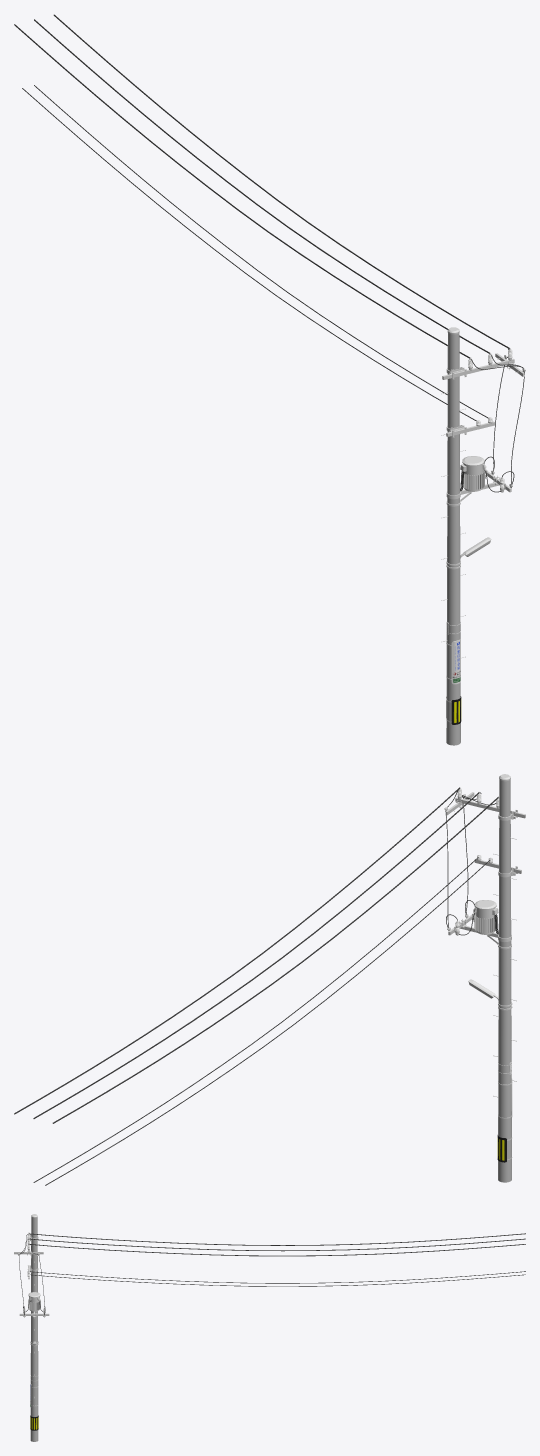
Rendered from UtilityPole_type5.fbx.
3 renders of one model, top to bottom at view 1: azimuth 30°, elevation 25°; view 2: azimuth 150°, elevation 25°; view 3: azimuth 270°, elevation 25°, orthographic. The views are drawn at different scales.
Visible parts, largest first — view 1: UtilityPole, UtilityPole_ElectricWire_01, UtilityPoleArm_03, UtilityPole_ElectricWire_02, UtilityPoleArm_01; view 2: UtilityPole, UtilityPole_ElectricWire_01, UtilityPoleArm_03, UtilityPole_ElectricWire_02, UtilityPoleArm_01; view 3: UtilityPole_ElectricWire_01, UtilityPole, UtilityPole_ElectricWire_02, UtilityPoleArm_03.
Part boxes in pixels (box(x1,y1,x2,y2)): UtilityPole: box(441, 327, 491, 745); UtilityPole_ElectricWire_01: box(14, 14, 509, 358); UtilityPoleArm_03: box(446, 365, 524, 506); UtilityPole_ElectricWire_02: box(22, 85, 488, 420); UtilityPoleArm_01: box(442, 348, 525, 380); UtilityPole: box(468, 774, 516, 1182); UtilityPole_ElectricWire_01: box(14, 787, 498, 1123); UtilityPoleArm_03: box(445, 798, 511, 949); UtilityPole_ElectricWire_02: box(33, 857, 490, 1185); UtilityPoleArm_01: box(444, 787, 525, 820); UtilityPole_ElectricWire_01: box(29, 1233, 525, 1256); UtilityPole: box(30, 1214, 38, 1441); UtilityPole_ElectricWire_02: box(30, 1271, 525, 1286); UtilityPoleArm_03: box(18, 1255, 49, 1318).
Size of the model in its own units: 1.86 by 10 by 20.6.
